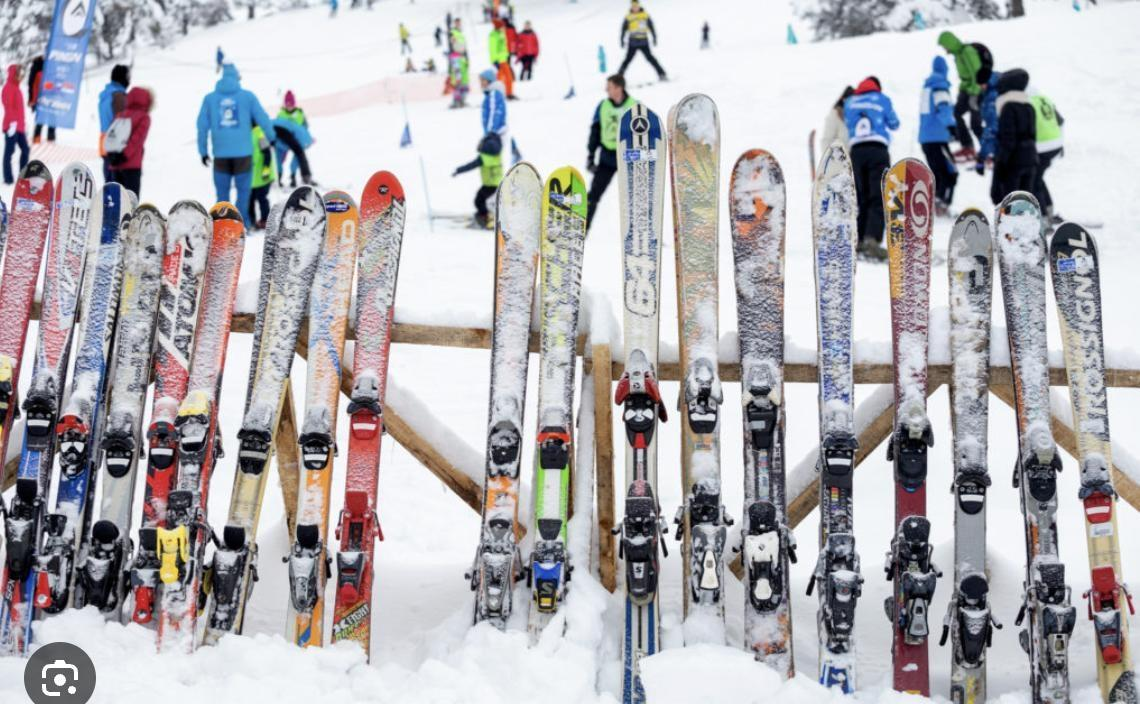Skis: (197, 178, 332, 666), (0, 156, 103, 664), (151, 184, 256, 668), (30, 176, 141, 621), (322, 164, 413, 682), (1046, 207, 1140, 702), (991, 187, 1080, 702), (120, 184, 217, 632), (72, 194, 170, 627), (275, 185, 360, 665), (728, 148, 792, 663), (667, 92, 725, 636), (882, 157, 940, 688), (811, 145, 864, 682), (616, 105, 668, 652), (484, 162, 537, 626), (948, 210, 992, 699), (540, 167, 580, 616)
